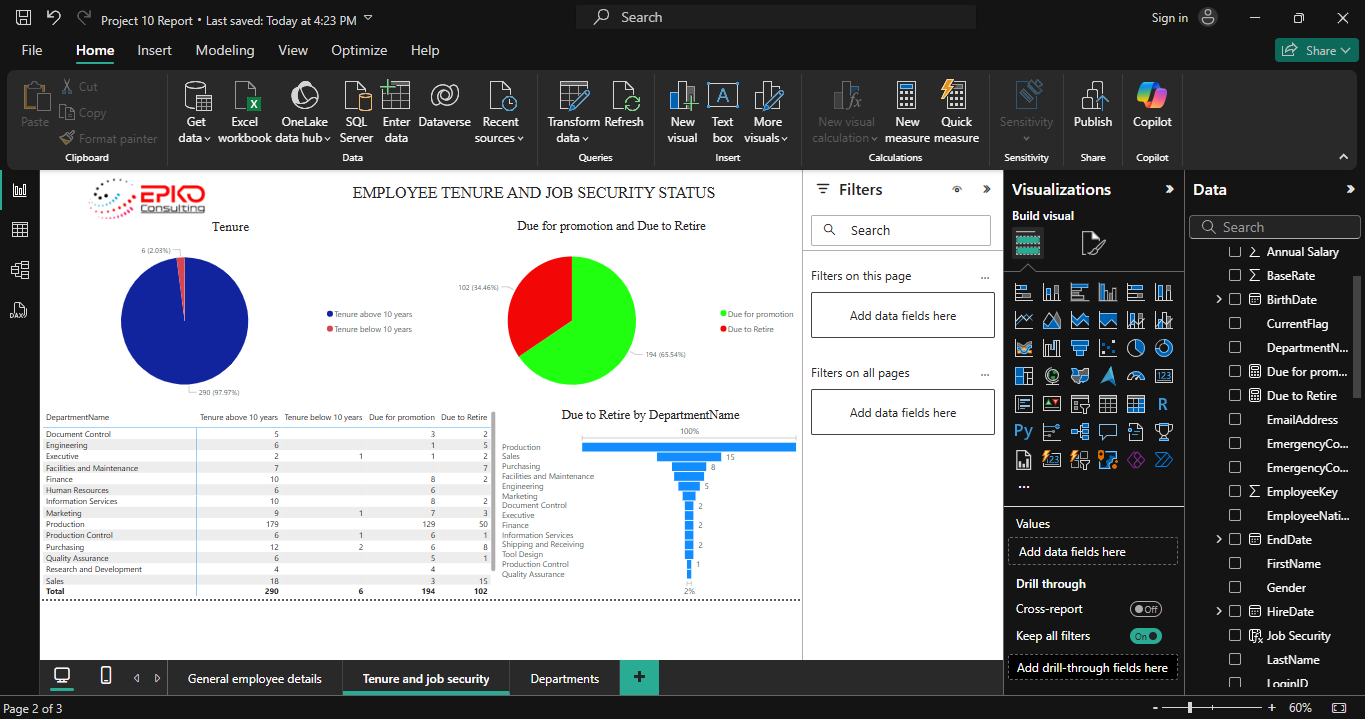

Layout of this report page (visuals, bound fields, positions):
{"tool":"powerbi","page":{"name":"Tenure and job security","canvas":[1280,720],"ordinal":1},"visuals":[{"type":"image","box":[0,0,361.2,97.4],"z":0},{"type":"textbox","box":[379.6,18.5,900.4,52.1],"z":1000},{"type":"pieChart","title":"Tenure","fields":{"Y":["DimEmployee.Tenure above 10 years","DimEmployee.Tenure below 10 years"]},"box":[0,82.3,640,317.5],"z":2000},{"type":"pieChart","fields":{"Y":["DimEmployee.Due for promotion","DimEmployee.Due to Retire"]},"box":[640,82.3,640,317.5],"z":3000},{"type":"pivotTable","fields":{"Rows":["DimEmployee.DepartmentName"],"Values":["DimEmployee.Tenure above 10 years","DimEmployee.Tenure below 10 years","DimEmployee.Due for promotion","DimEmployee.Due to Retire"]},"box":[0,399.8,771,320.8],"z":4000},{"type":"funnel","fields":{"Category":["DimEmployee.DepartmentName"],"Y":["DimEmployee.Due to Retire"]},"box":[771,399.8,509,320.8],"z":5000}]}

Visuals, with their boxes on the page's 1280x720 design canvas (x1, y1, x2, y2). These are canvas units, not pixel positions in the 1365x719 screenshot, which may show the page scaled, cropped or inside an application window:
image: [x1=0, y1=0, x2=361, y2=97]
textbox: [x1=380, y1=18, x2=1280, y2=71]
"Tenure" pieChart: [x1=0, y1=82, x2=640, y2=400]
pieChart - DimEmployee.Due for promotion x DimEmployee.Due to Retire: [x1=640, y1=82, x2=1280, y2=400]
pivotTable - DimEmployee.DepartmentName x DimEmployee.Tenure above 10 years: [x1=0, y1=400, x2=771, y2=721]
funnel - DimEmployee.DepartmentName x DimEmployee.Due to Retire: [x1=771, y1=400, x2=1280, y2=721]
